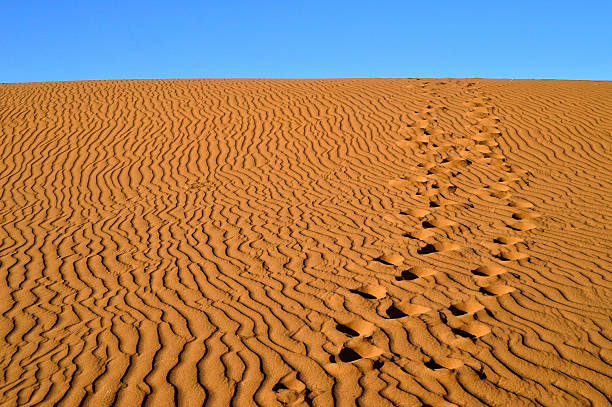animal_foot_print: (406, 78, 515, 163), (435, 301, 490, 344), (403, 217, 458, 241), (330, 338, 383, 362), (272, 372, 308, 405), (451, 320, 490, 340), (481, 235, 526, 252), (336, 319, 376, 336), (385, 303, 430, 318), (416, 181, 457, 197), (449, 299, 484, 316), (397, 266, 436, 280), (350, 284, 386, 299), (417, 242, 460, 254), (387, 176, 426, 189), (424, 357, 463, 370), (480, 282, 515, 296), (493, 248, 528, 262), (428, 196, 472, 207), (471, 263, 507, 276), (471, 188, 511, 199), (374, 252, 404, 265), (422, 217, 457, 228), (506, 218, 538, 230), (403, 229, 435, 241), (426, 165, 457, 175), (493, 236, 524, 245), (400, 208, 430, 217), (512, 210, 540, 219), (508, 198, 533, 208), (498, 173, 521, 183), (485, 183, 510, 191)
